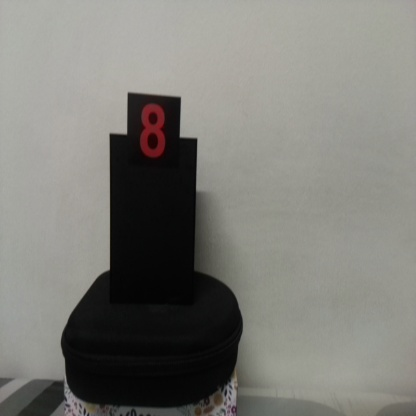id_8: (127, 93, 180, 185)
